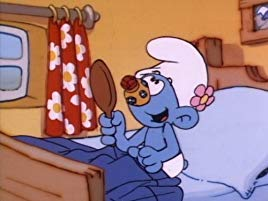smurf: (108, 33, 214, 180)
